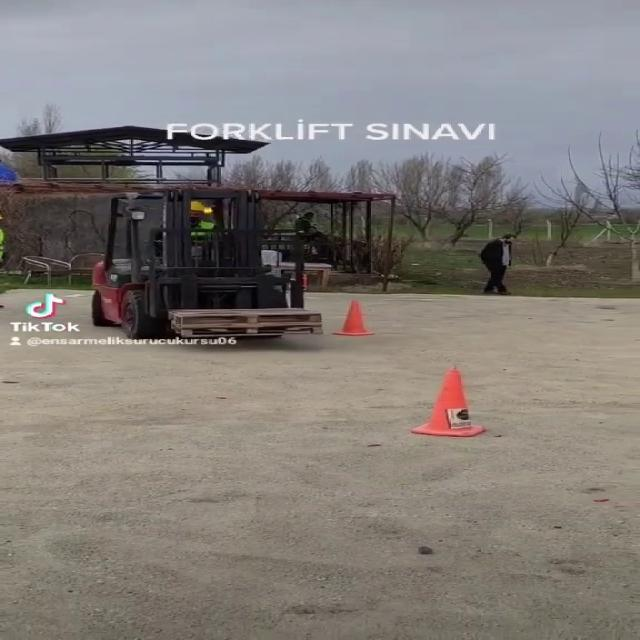forklift: (87, 189, 325, 339)
pallets: (137, 306, 364, 353)
person: (465, 218, 533, 313)
